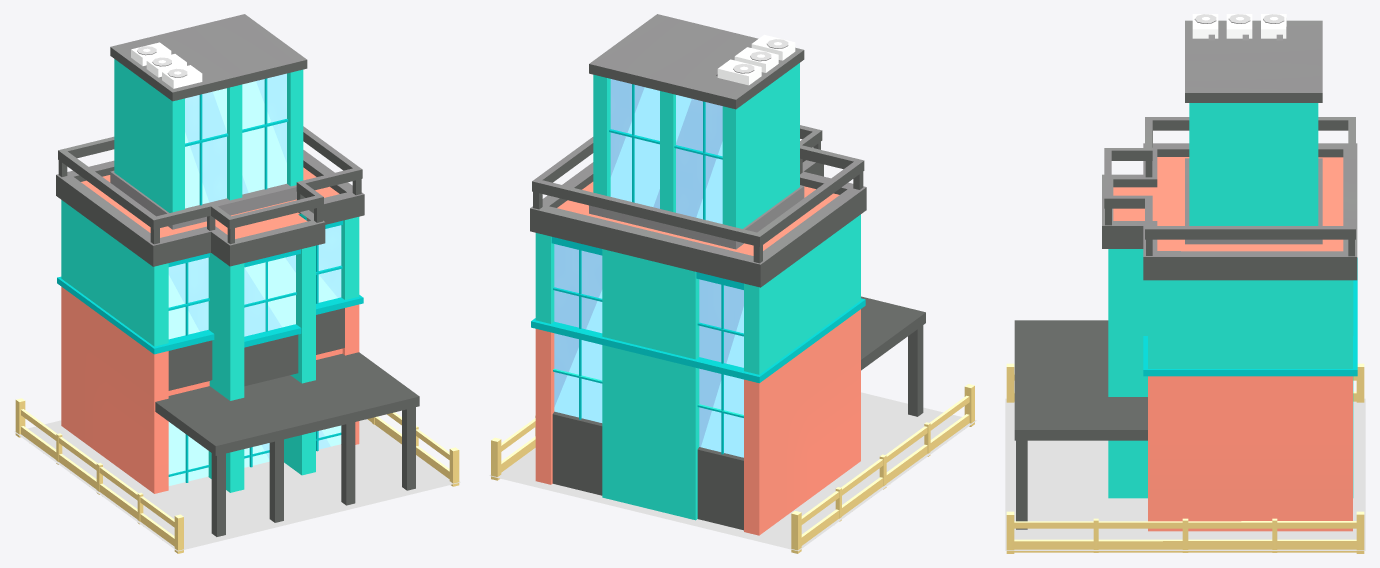
The picture shows the model from 3 angles, left to right: view 1: azimuth 30°, elevation 25°; view 2: azimuth 150°, elevation 25°; view 3: azimuth 270°, elevation 25°; orthographic projection. The views are drawn at different scales.
Visible parts, largest first — view 1: hotel.002 (2), tile_for_home_1x1.016 (18); view 2: hotel.002 (2), tile_for_home_1x1.016 (18); view 3: hotel.002 (2), tile_for_home_1x1.016 (18).
Part boxes in pixels (<box>): hotel.002 (2): <box>56,14,419,536</box>; tile_for_home_1x1.016 (18): <box>14,398,460,553</box>; hotel.002 (2): <box>530,14,925,535</box>; tile_for_home_1x1.016 (18): <box>489,384,976,553</box>; hotel.002 (2): <box>1014,14,1357,531</box>; tile_for_home_1x1.016 (18): <box>1005,363,1365,553</box>.
Size of the model in its own units: 8 by 10.6 by 8.
1 material, 1 textured.
